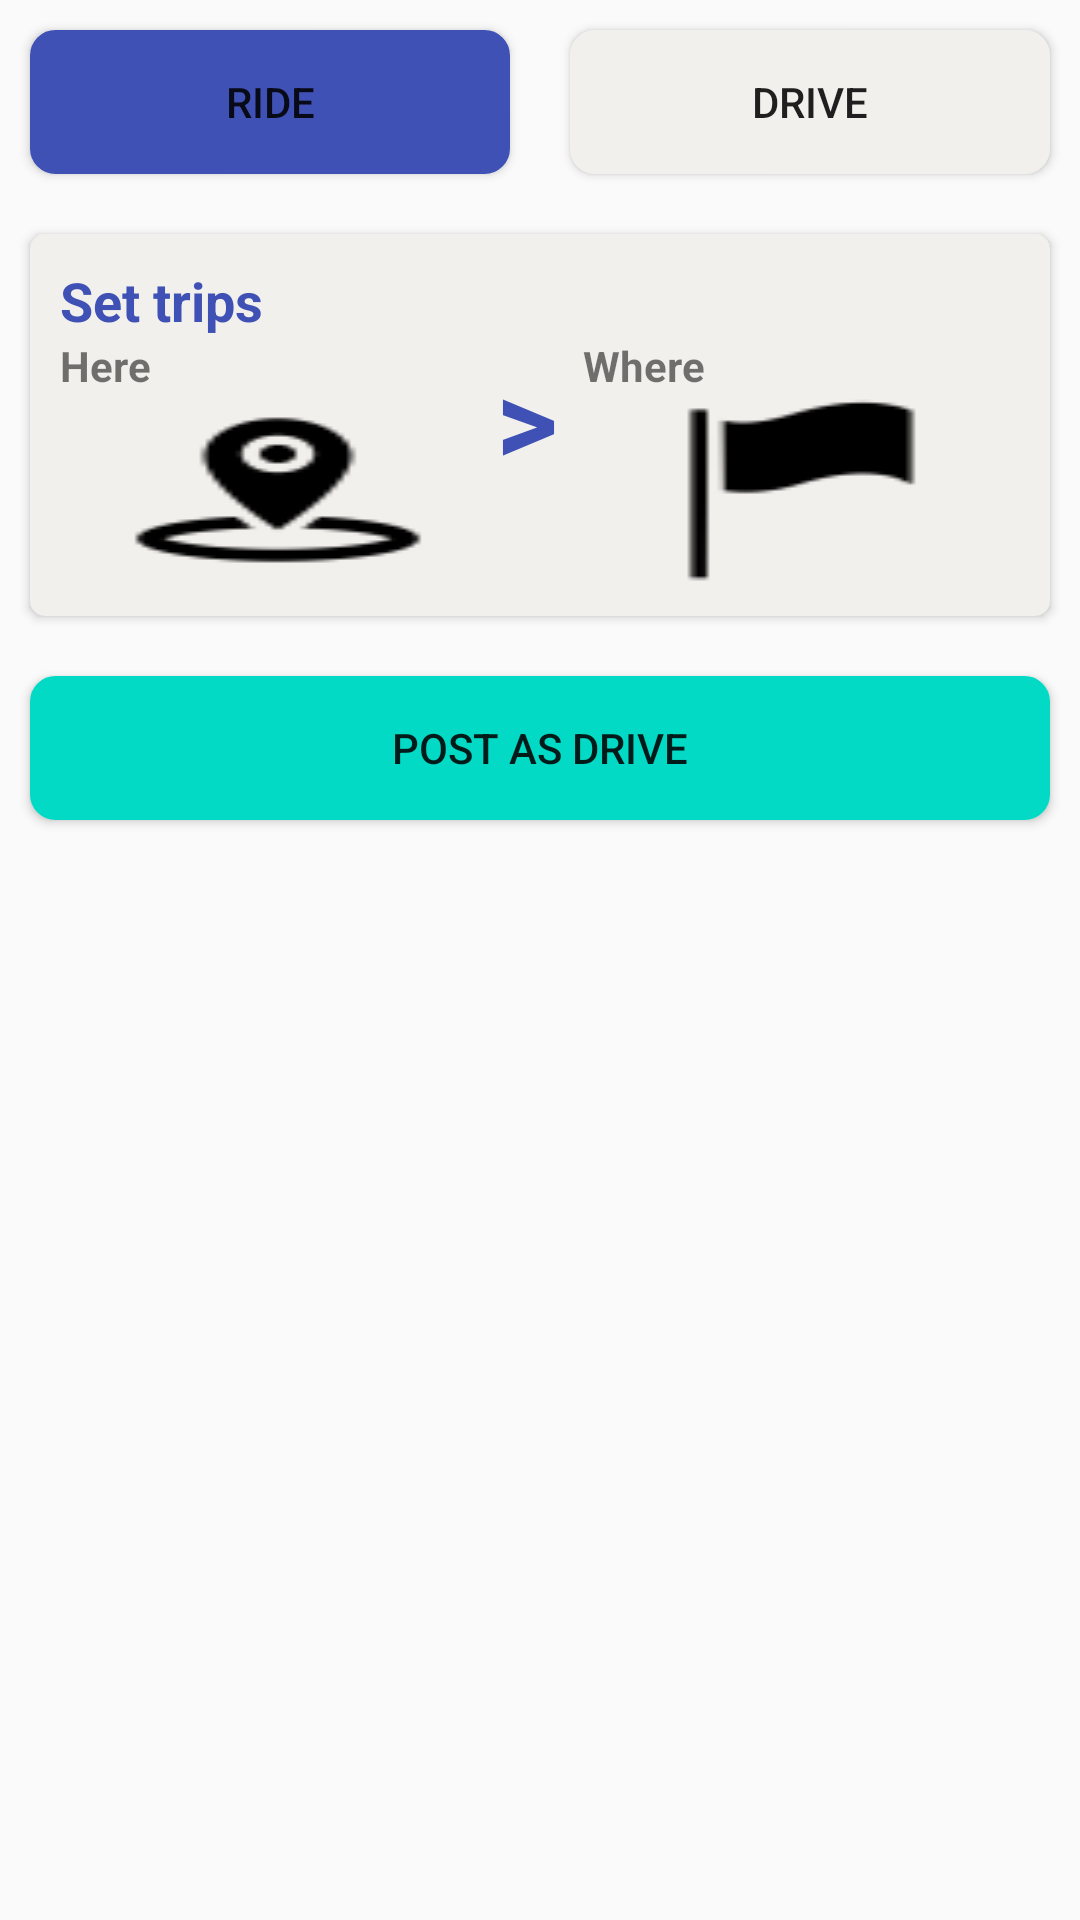

Locate icon controls on the screen. Image size 1080 x 1920, boxes as (x1, y1, x2, y2).
marker end: (688, 401, 915, 581)
marker start: (135, 417, 421, 563)
